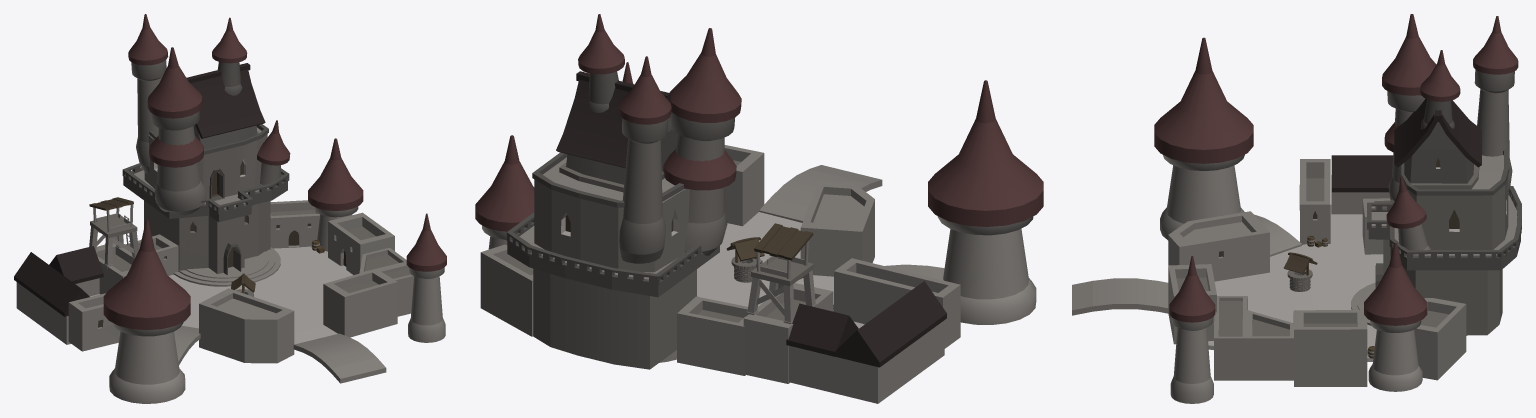
File: blockout.fbx
3 renders of one model, left to right at view 1: azimuth 30°, elevation 25°; view 2: azimuth 150°, elevation 25°; view 3: azimuth 270°, elevation 25°, orthographic. The views are drawn at different scales.
Visible parts, largest first — view 1: pCube10, pCube61, pCube5, pCylinder27, pCylinder28, pCube94, pCylinder17, pCube52, pCube2, pCube92, pCylinder13, pCube35 (+23 smaller); view 2: pCube10, pCylinder27, pCylinder28, pCube7, pCylinder21, pCube5, pCube104, pCube95, pCube35, pCylinder17, pCube102, pCube61 (+16 smaller); view 3: pCube10, pCube61, pCylinder27, pCube3, pCube2, pCube5, pCylinder28, pCube93, pCylinder11, pCube92, pCylinder13, pCylinder12 (+20 smaller).
Part boxes in pixels (x1,y1,x2,y2): pCube10: (123,125,287,274); pCube61: (90,246,353,344); pCube5: (199,288,294,363); pCylinder27: (103,220,190,330); pCylinder28: (109,322,185,403); pCube94: (323,268,397,337); pCylinder17: (151,111,206,215); pCube52: (191,69,265,138); pCube2: (328,212,394,274); pCube92: (293,333,386,383); pCylinder13: (408,267,445,342); pCube35: (14,252,89,316); pCube10: (507,117,719,369); pCylinder27: (928,80,1043,226); pCylinder28: (937,216,1036,324); pCube7: (789,320,944,403); pCylinder21: (619,118,667,263); pCube5: (800,180,874,276); pCube104: (834,258,960,348); pCube95: (677,296,747,375); pCube35: (835,281,946,367); pCylinder17: (669,112,734,255); pCube102: (743,283,833,383); pCube61: (697,212,864,328); pCube10: (1368,122,1520,335); pCube61: (1208,205,1383,361); pCylinder27: (1154,37,1253,163); pCube3: (1214,296,1293,380); pCube2: (1293,310,1367,386); pCube5: (1168,211,1269,281); pCylinder28: (1160,154,1244,240); pCube93: (1414,298,1466,380); pCylinder11: (1368,320,1422,391); pCube92: (1072,278,1168,315); pCylinder13: (1170,317,1213,403); pCylinder12: (1364,243,1427,325).
Bounding box in the file's own units: 94.46 × 69.82 × 96.12.
